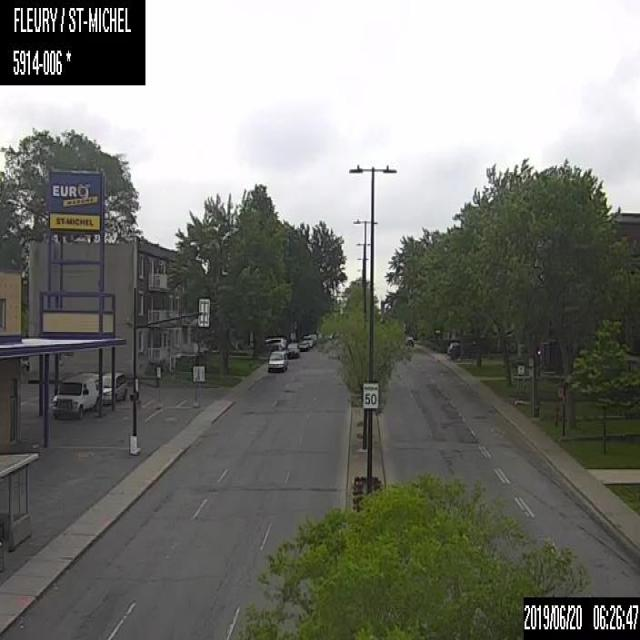vehicle: (50, 370, 101, 419), (100, 368, 127, 408), (266, 348, 287, 373), (285, 340, 300, 360), (264, 335, 285, 348), (447, 340, 460, 357), (298, 336, 309, 352), (404, 335, 412, 345)
